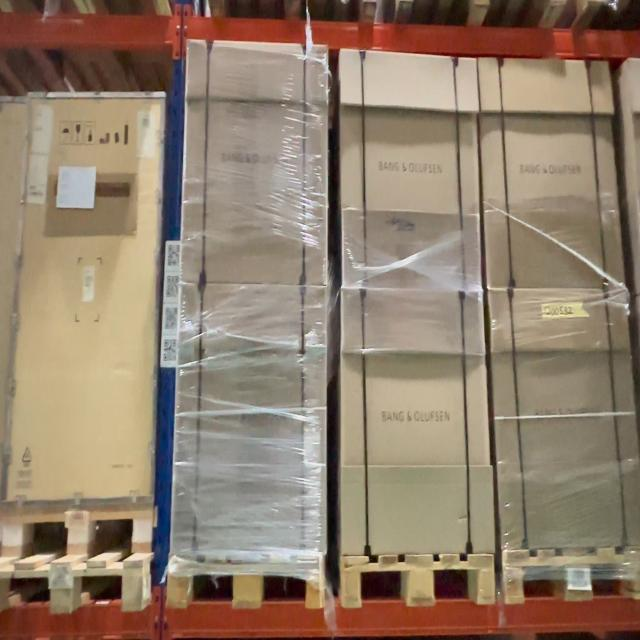box: (181, 296, 324, 553), (344, 296, 482, 550), (190, 45, 328, 287), (347, 58, 476, 286), (487, 64, 615, 284)
